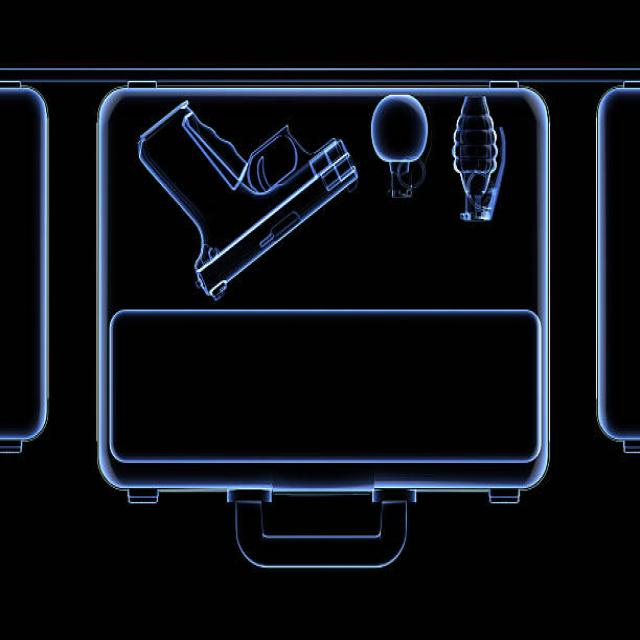grenade: (451, 95, 511, 226), (366, 94, 433, 203)
